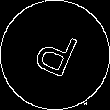P_SW: (28, 25, 82, 85)
